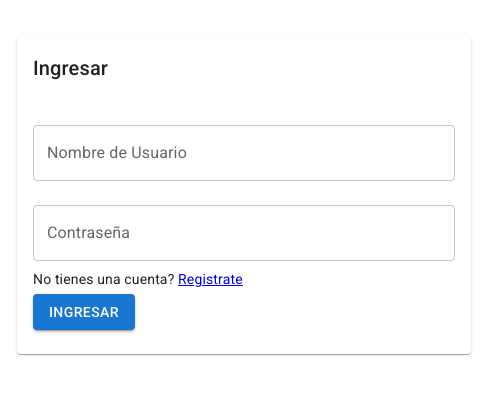
Test: Login Flow › should show error with invalid credentials
# Ingresar credenciales inválidas
In the field labelled "Nombre de Usuario": (244, 153) [33,125,455,181], type "wronguser"
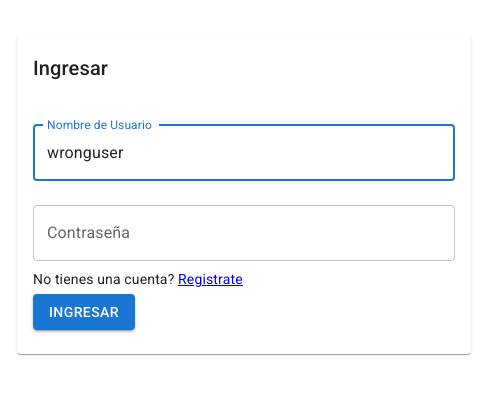
In the password field labelled "Contraseña": (244, 233) [33,205,455,261], type "wrongpassword"
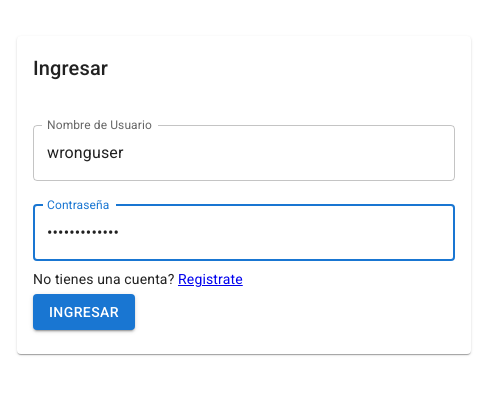
# Enviar el formulario
Click the submit button: (84, 313) [33,294,135,331]
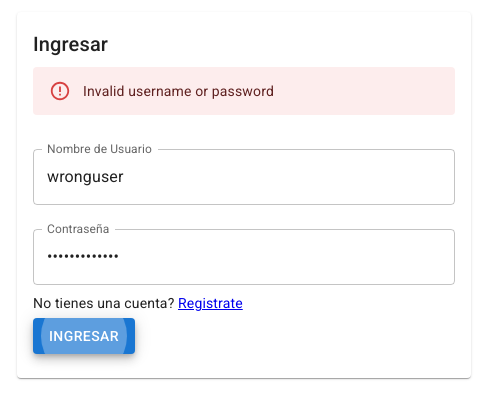
Expected: the text "Invalid username or password" is shown, [83,83,274,99]
